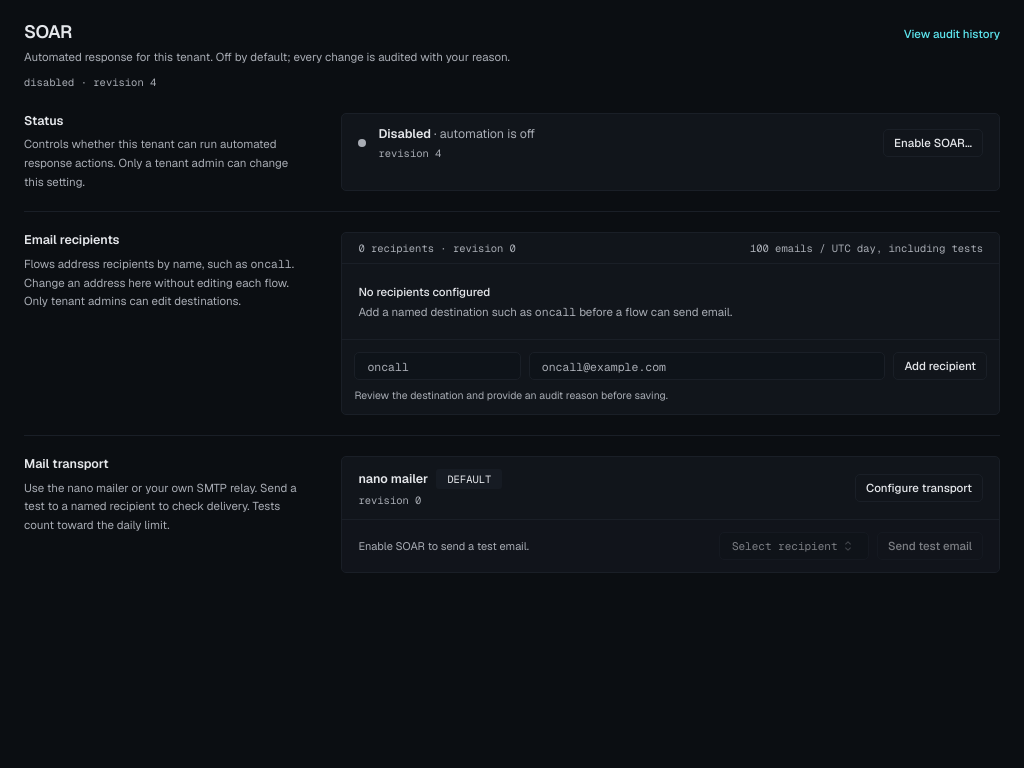
Test: save sends expected_revision and the reason
Click the button "Enable SOAR…" at (933,143), box [883,129,983,157]
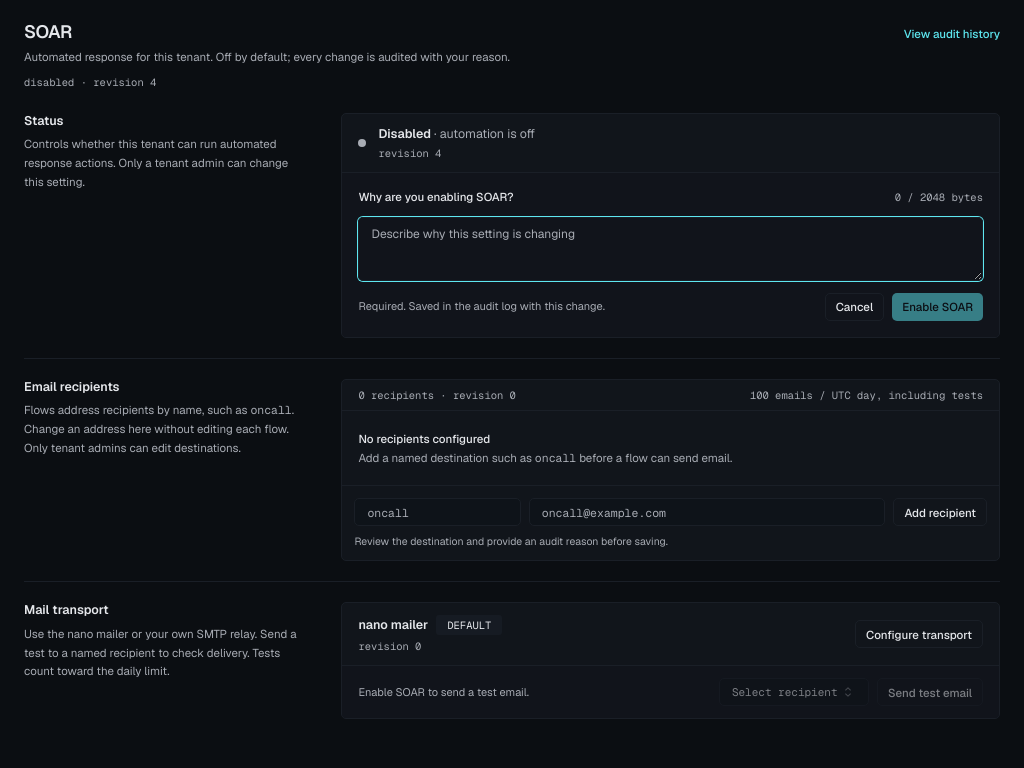
Expected: the button "Enable SOAR" is disabled, [892,293,983,321]
Type "  Pilot automation for phishing  " into the text box named "Reason" at (671,249), box [358,217,983,281]
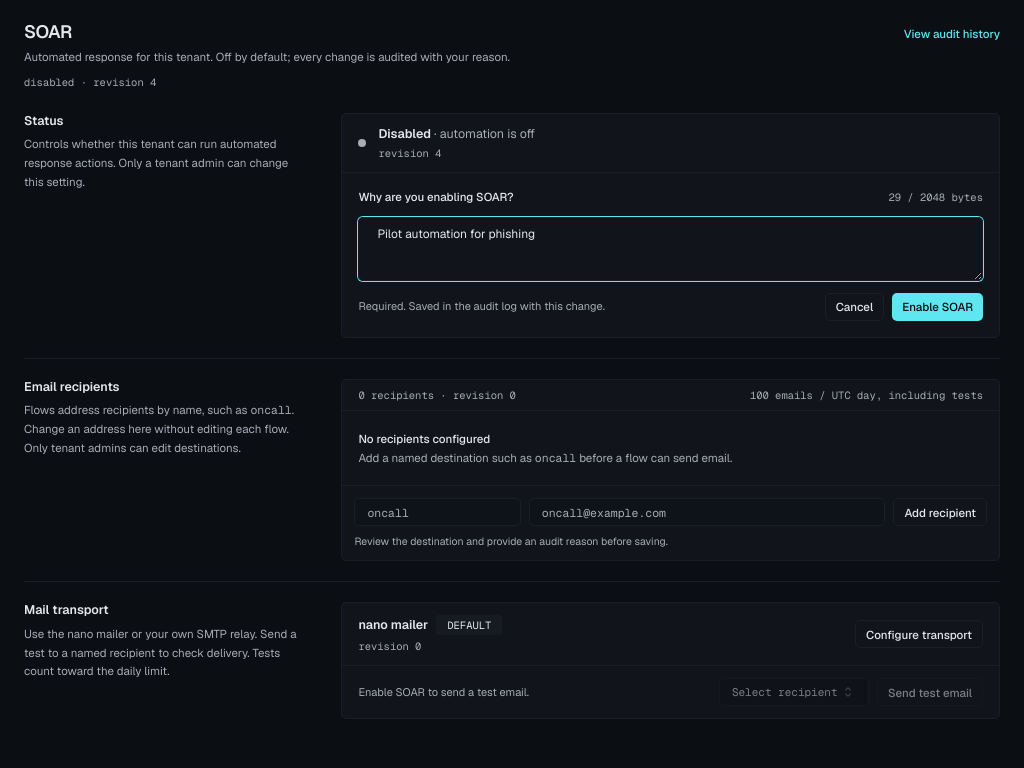
Expected: the button "Enable SOAR" is enabled
Click the button "Enable SOAR" at (938,307), box [892,293,983,321]
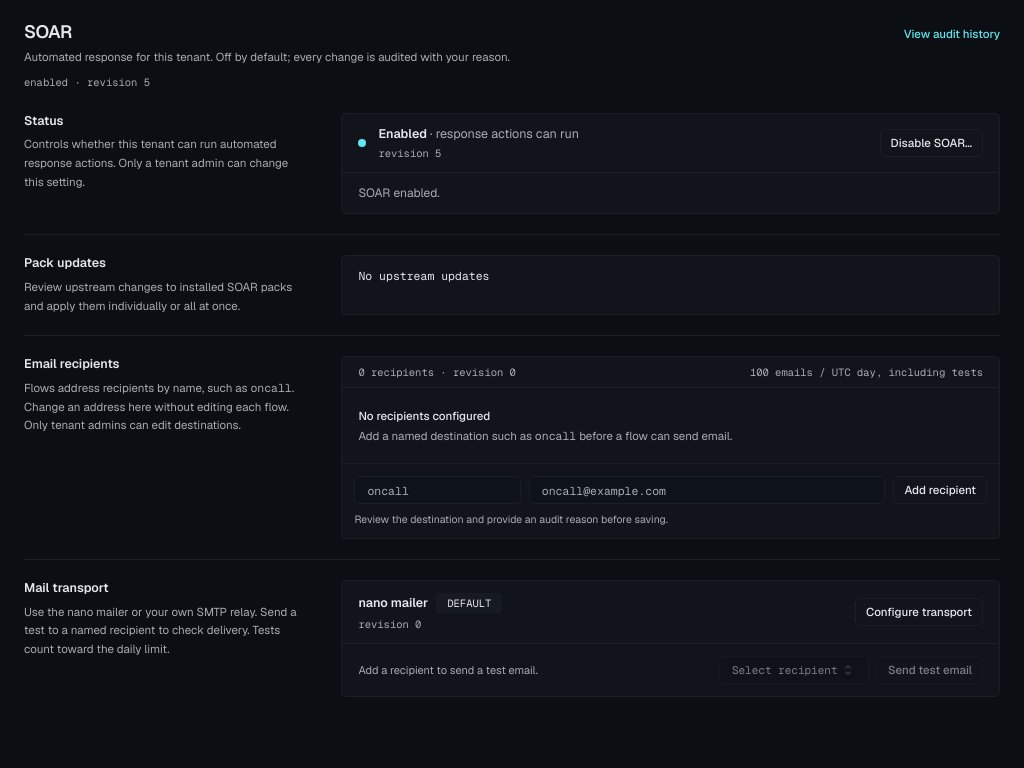
Expected: the text "SOAR enabled." is shown, [342,172,999,213]
Expected: the text "enabled · revision 5" is shown, [24,75,150,89]
